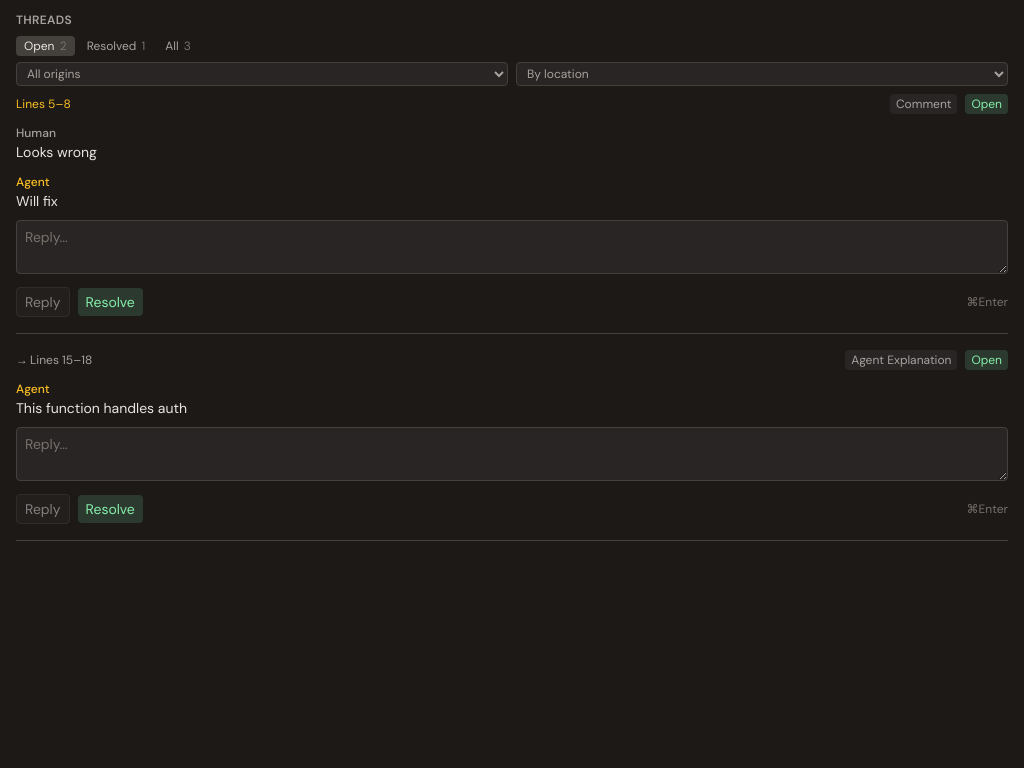
Test case: ThreadPanel › filtering and sorting › shows all threads when clicking All tab
The image size is (1024, 768).
Click the button "All 3". click: (178, 46)
box: [157,36,199,56]
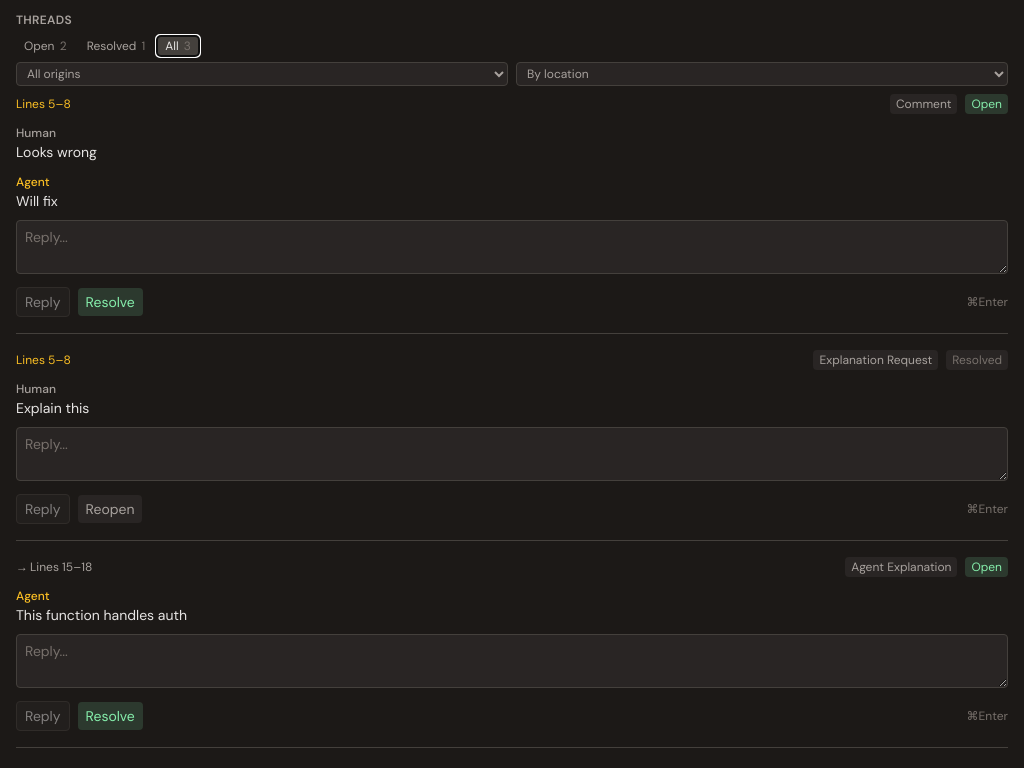
Expected: the text "Looks wrong" is shown, [16,143,97,161]
Expected: the text "Explain this" is shown, [16,399,89,417]
